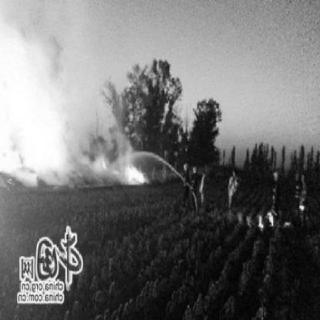Fire: (2, 41, 152, 197)
